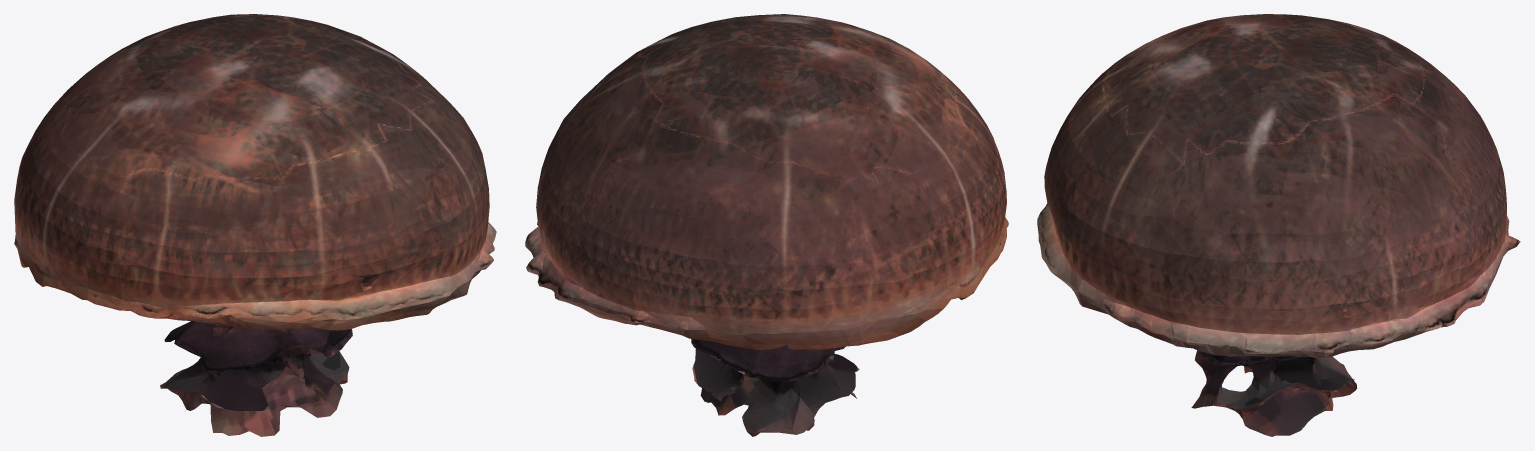
The picture shows the model from 3 angles, left to right: view 1: azimuth 30°, elevation 25°; view 2: azimuth 150°, elevation 25°; view 3: azimuth 270°, elevation 25°; orthographic projection.
Parts seen in each view (by area): view 1: world; view 2: world; view 3: world.
Part boxes in pixels (left/top/right/bottom): world: left=14, top=14, right=496, bottom=436; world: left=525, top=14, right=1008, bottom=436; world: left=1037, top=14, right=1520, bottom=436.
Bounding box in the file's own units: 0.6237 × 0.5163 × 0.6261.
Materials: 1 (1 with a texture image).
